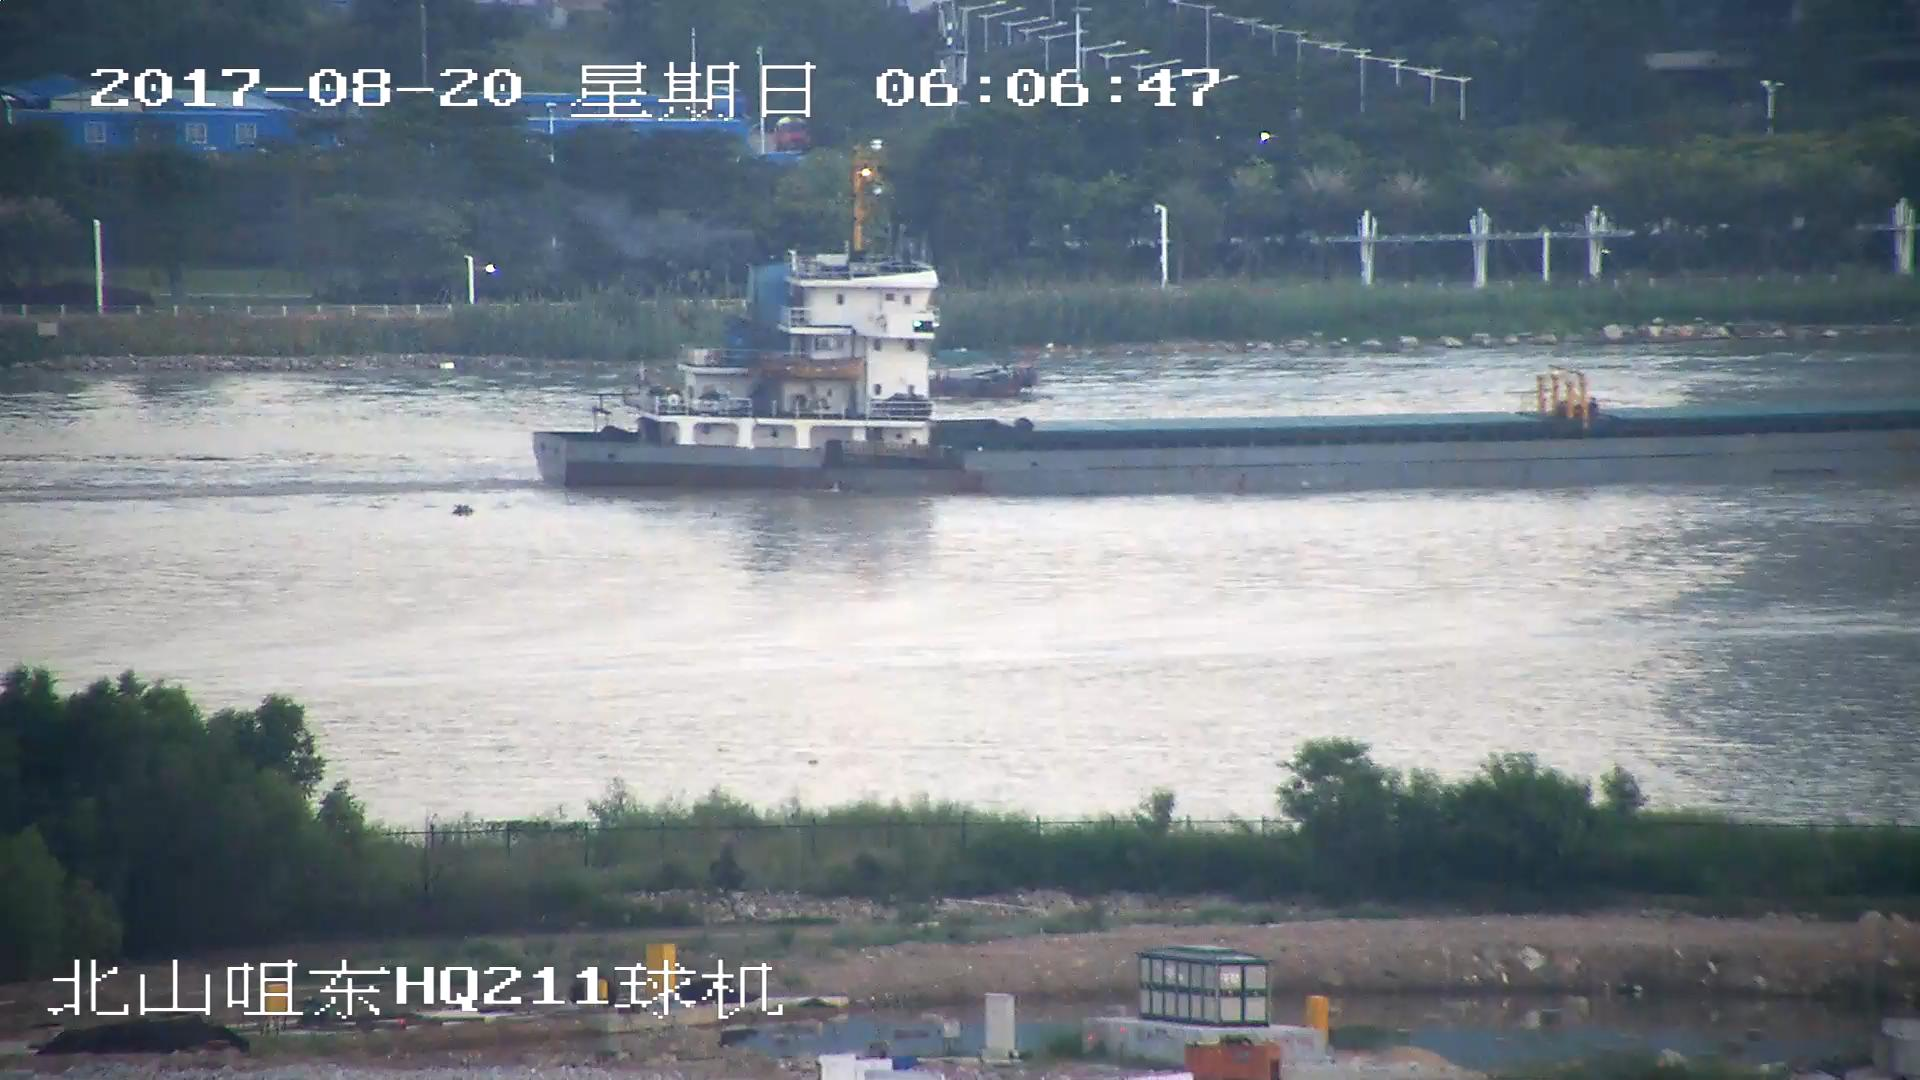general cargo ship: (547, 206, 1920, 490)
